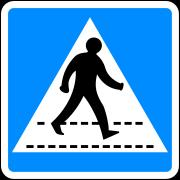Pedestrian Crossing: (15, 10, 164, 162)
